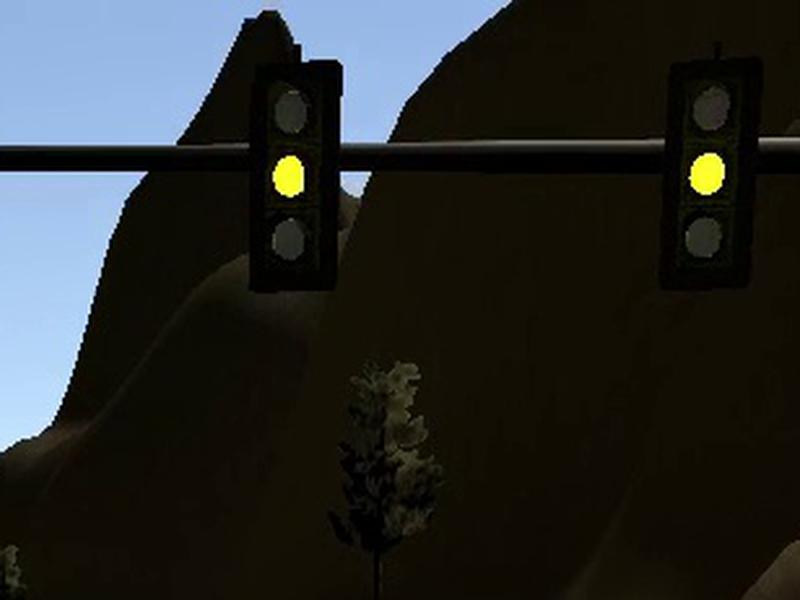Yellow: (657, 55, 764, 290), (248, 59, 343, 295)
